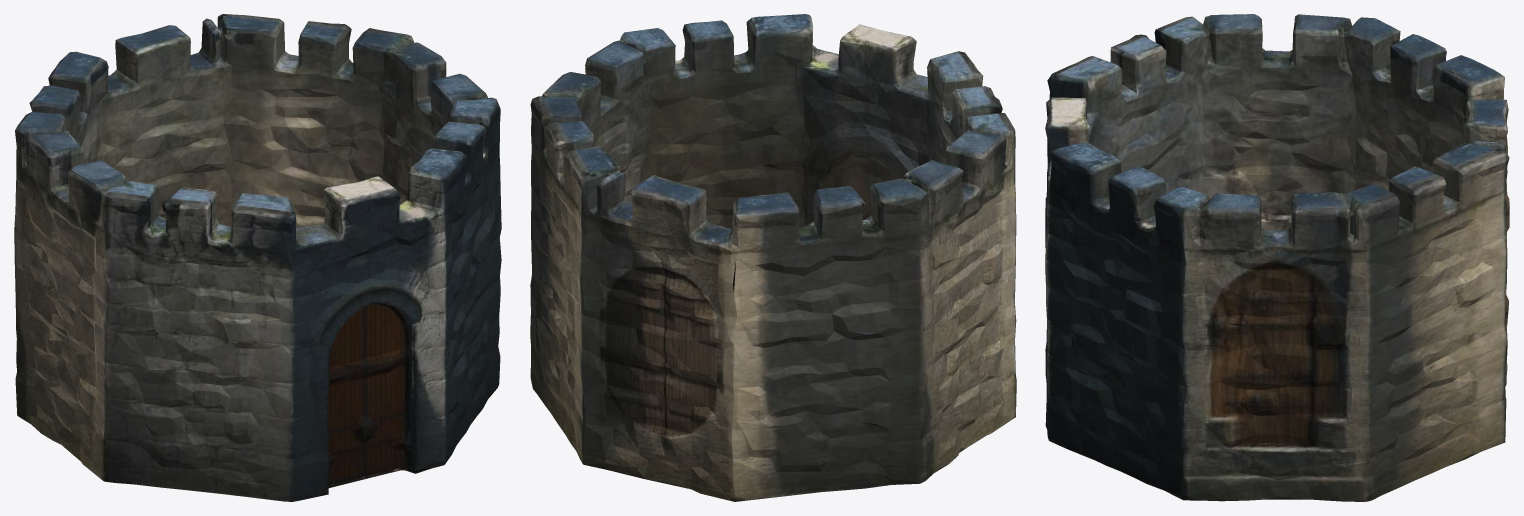
The model's file is tower_octagon_wall_lod0.glb.
The picture shows the model from 3 angles, left to right: view 1: azimuth 30°, elevation 25°; view 2: azimuth 150°, elevation 25°; view 3: azimuth 270°, elevation 25°; orthographic projection.
Parts seen in each view (by area): view 1: tower_octagon_wall_lod0; view 2: tower_octagon_wall_lod0; view 3: tower_octagon_wall_lod0.
Part boxes in pixels (bbox=[...]): tower_octagon_wall_lod0: bbox=[14, 14, 501, 501]; tower_octagon_wall_lod0: bbox=[530, 14, 1016, 501]; tower_octagon_wall_lod0: bbox=[1045, 14, 1509, 501].
Bounding box in the file's own units: 11.46 × 8 × 11.38.
Materials: 1 (1 with a texture image).
